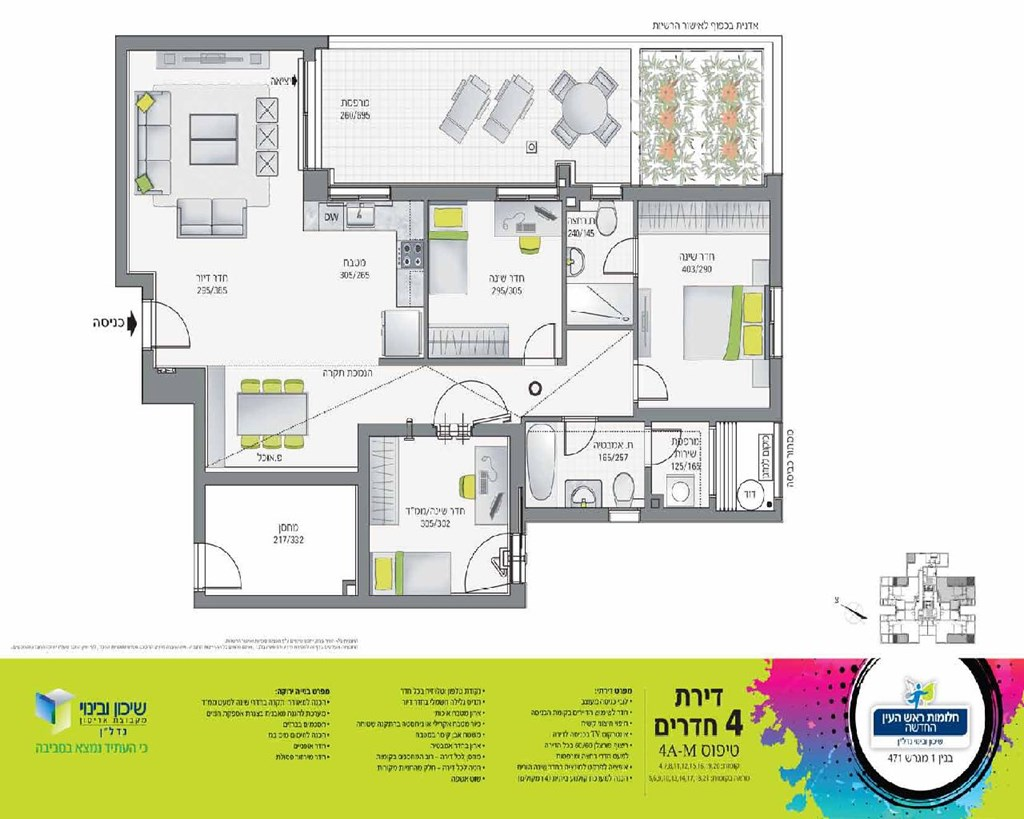door: (158, 295, 203, 353), (208, 535, 253, 593), (640, 360, 678, 405), (652, 423, 685, 470), (558, 423, 602, 458), (519, 318, 558, 357), (594, 238, 633, 277)
wall: (195, 596, 525, 607), (116, 36, 314, 50), (116, 36, 127, 287), (194, 472, 368, 485), (625, 186, 783, 200), (194, 368, 204, 543)
window: (298, 60, 322, 167), (764, 287, 783, 357), (328, 184, 390, 201), (494, 183, 556, 200), (590, 182, 622, 202)
